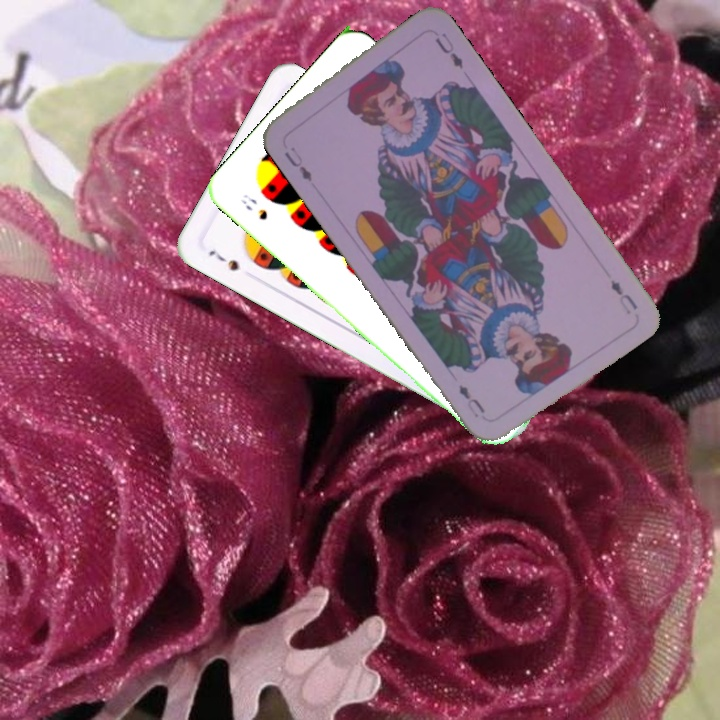EU: (606, 275, 640, 318), (280, 143, 315, 184)
S7: (204, 245, 242, 274)
S8: (236, 190, 270, 223)
